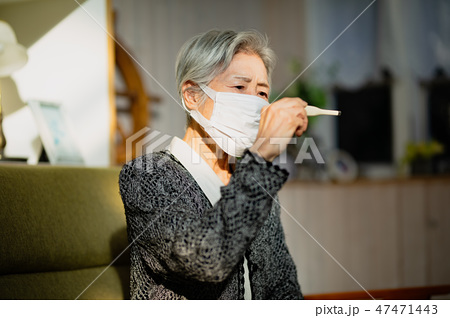mask: (210, 91, 269, 152)
